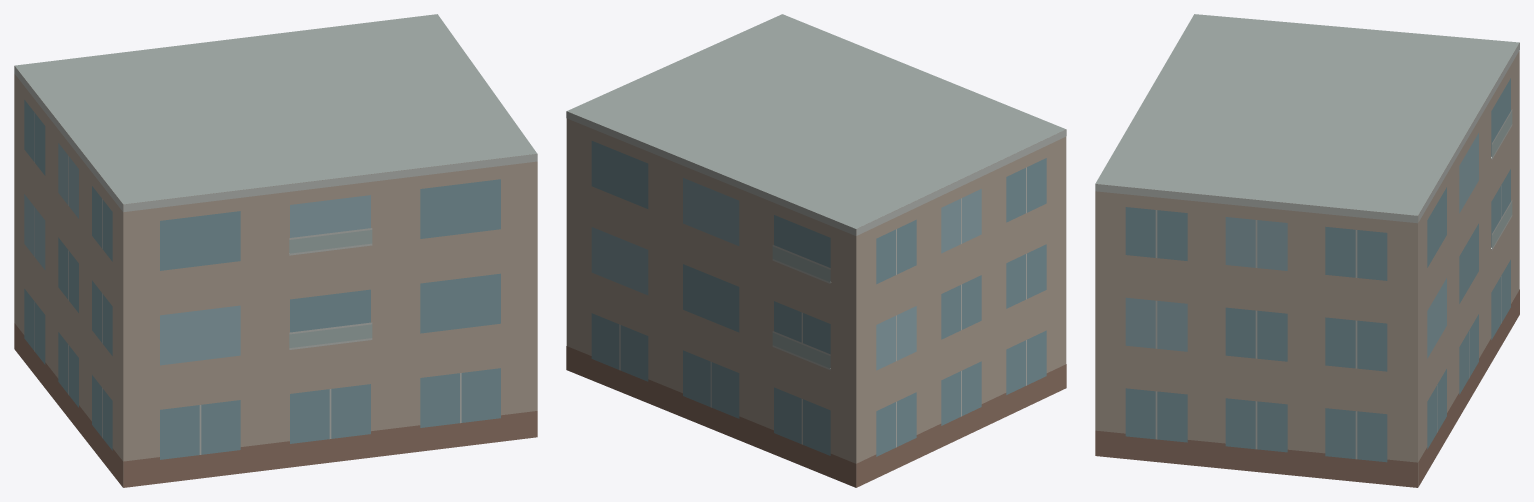
File: survey-upis-32505354.glb
3 renders of one model, left to right at view 1: azimuth 30°, elevation 25°; view 2: azimuth 150°, elevation 25°; view 3: azimuth 270°, elevation 25°, orthographic. The views are drawn at different scales.
Parts seen in each view (by area): view 1: survey-upis-32505354.tmp; view 2: survey-upis-32505354.tmp; view 3: survey-upis-32505354.tmp.
Boxes of the visible parts, left/top/right/bottom form: survey-upis-32505354.tmp: left=14, top=14, right=537, bottom=487; survey-upis-32505354.tmp: left=566, top=14, right=1066, bottom=487; survey-upis-32505354.tmp: left=1095, top=14, right=1519, bottom=487.
Bounding box in the file's own units: 14.17 × 8.9 × 12.6.
